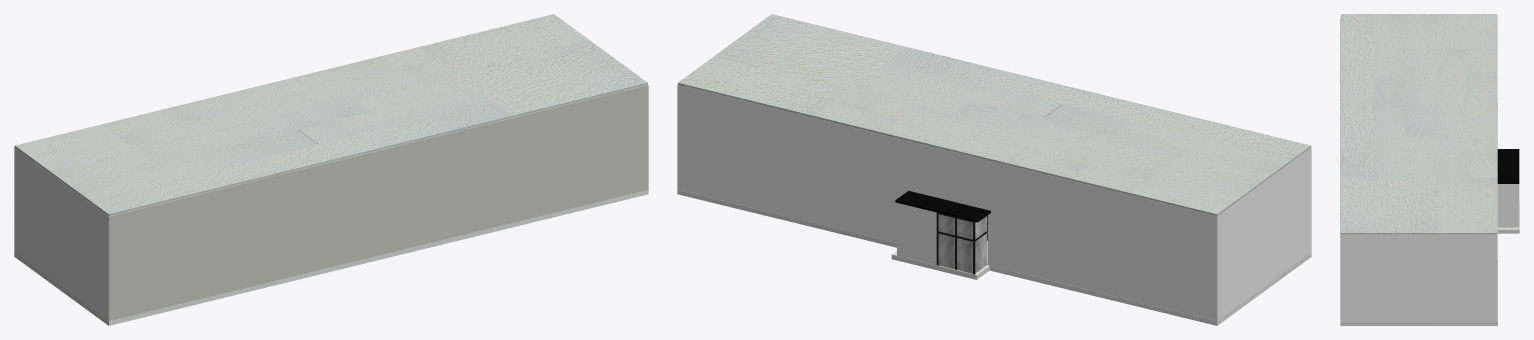
Rendered from A2__in_progress_with_textures_new_differen.fbx.
The picture shows the model from 3 angles, left to right: view 1: azimuth 30°, elevation 25°; view 2: azimuth 150°, elevation 25°; view 3: azimuth 270°, elevation 25°; orthographic projection. The views are drawn at different scales.
Parts seen in each view (by area): view 1: First Floor, Roof, Ground; view 2: First Floor, Roof, Ground, Second Floor Extension; view 3: Roof, First Floor, Ground, Second Floor Extension.
Part boxes in pixels (x1,y1,x2,y2): First Floor: (14,84,648,321); Roof: (14,14,647,215); Ground: (14,189,648,325); First Floor: (677,84,1311,321); Roof: (678,14,1311,216); Ground: (677,189,1311,325); Second Floor Extension: (895,190,990,222); Roof: (1341,14,1497,234); First Floor: (1340,16,1519,321); Ground: (1340,103,1519,325); Second Floor Extension: (1497,149,1519,183).
Size of the model in its own units: 9498 by 1873 by 3278.
